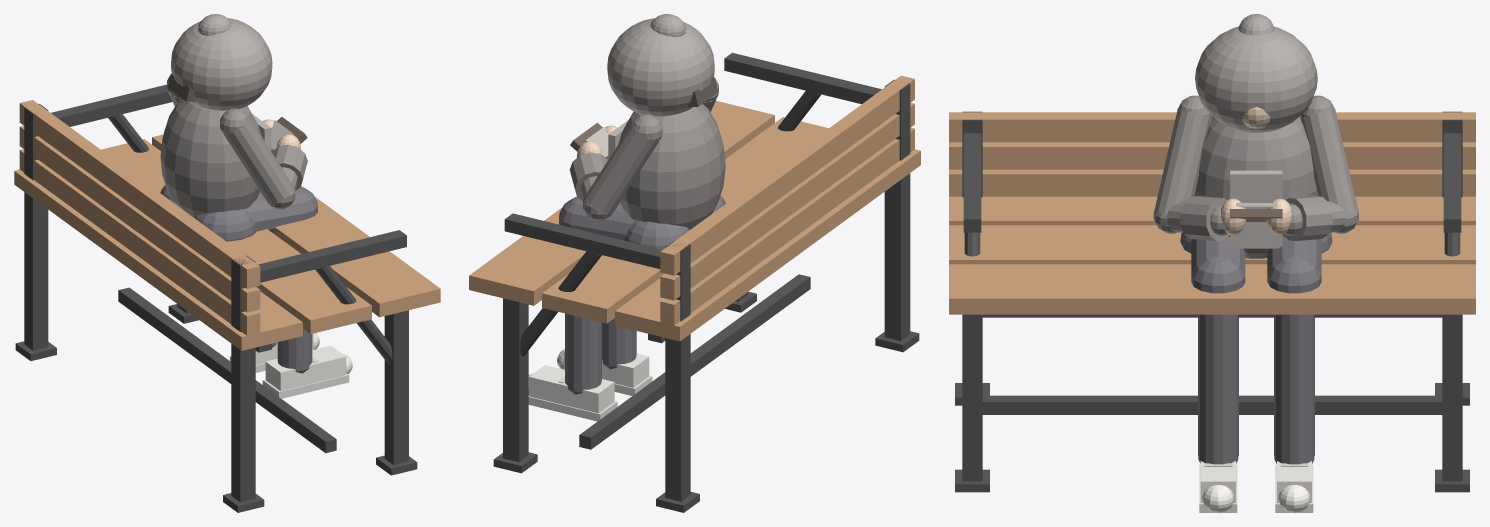
File: 48-man-reading-on-bench.glb
3 views of the same model, side by side, from view 1: azimuth 30°, elevation 25°; view 2: azimuth 150°, elevation 25°; view 3: azimuth 270°, elevation 25° (orthographic). The views are drawn at different scales.
Parts seen in each view (by area): view 1: torso, back_slat_2, seat_slat_2, hood, seat_slat_1, seat_slat_0, back_slat_0, back_slat_1, post_back_A, post_back_B, stretcher, leg_front_A (+14 smaller); view 2: torso, back_slat_2, seat_slat_1, hood, seat_slat_0, seat_slat_2, back_slat_1, back_slat_0, post_back_A, post_back_B, stretcher, leg_front_B (+17 smaller); view 3: seat_slat_2, seat_slat_1, back_slat_2, hood, seat_slat_0, back_slat_1, back_slat_0, stretcher, torso, calf_L, calf_R, armU_L (+24 smaller).
Boxes of the visible parts, box(x1,y1,x2,y2) form: torso: box(160, 99, 261, 217); back_slat_2: box(19, 100, 260, 288); seat_slat_2: box(152, 134, 440, 317); hood: box(171, 18, 272, 110); seat_slat_1: box(101, 139, 371, 334); seat_slat_0: box(14, 169, 302, 350); back_slat_0: box(19, 149, 260, 335); back_slat_1: box(19, 125, 260, 312); post_back_A: box(231, 255, 255, 502); post_back_B: box(24, 104, 48, 350); stretcher: box(118, 287, 336, 453); leg_front_A: box(384, 310, 408, 464); torso: box(618, 104, 725, 229); back_slat_2: box(660, 75, 914, 275); seat_slat_1: box(542, 117, 828, 323); hood: box(607, 18, 714, 116); seat_slat_0: box(615, 149, 920, 341); seat_slat_2: box(469, 100, 774, 305); back_slat_1: box(660, 103, 914, 300); back_slat_0: box(660, 127, 914, 325); post_back_A: box(884, 79, 910, 340); post_back_B: box(665, 240, 690, 501); stretcher: box(579, 274, 810, 449); leg_front_B: box(503, 298, 528, 461); seat_slat_2: box(949, 264, 1475, 314); seat_slat_1: box(949, 225, 1475, 264); back_slat_2: box(949, 112, 1475, 142); hood: box(1195, 26, 1317, 132); seat_slat_0: box(949, 196, 1475, 225); back_slat_1: box(949, 142, 1475, 169); back_slat_0: box(949, 169, 1475, 196); stretcher: box(982, 395, 1442, 414); torso: box(1194, 116, 1318, 258); calf_L: box(1198, 314, 1238, 464); calf_R: box(1274, 314, 1314, 464); armU_L: box(1153, 95, 1212, 233).
Size of the model in its own units: 1.04 by 1.64 by 1.8.
